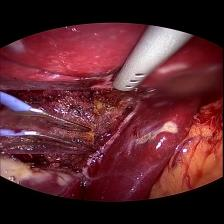Bipolar: (0, 89, 94, 153)
Irrigator: (109, 59, 159, 91)
